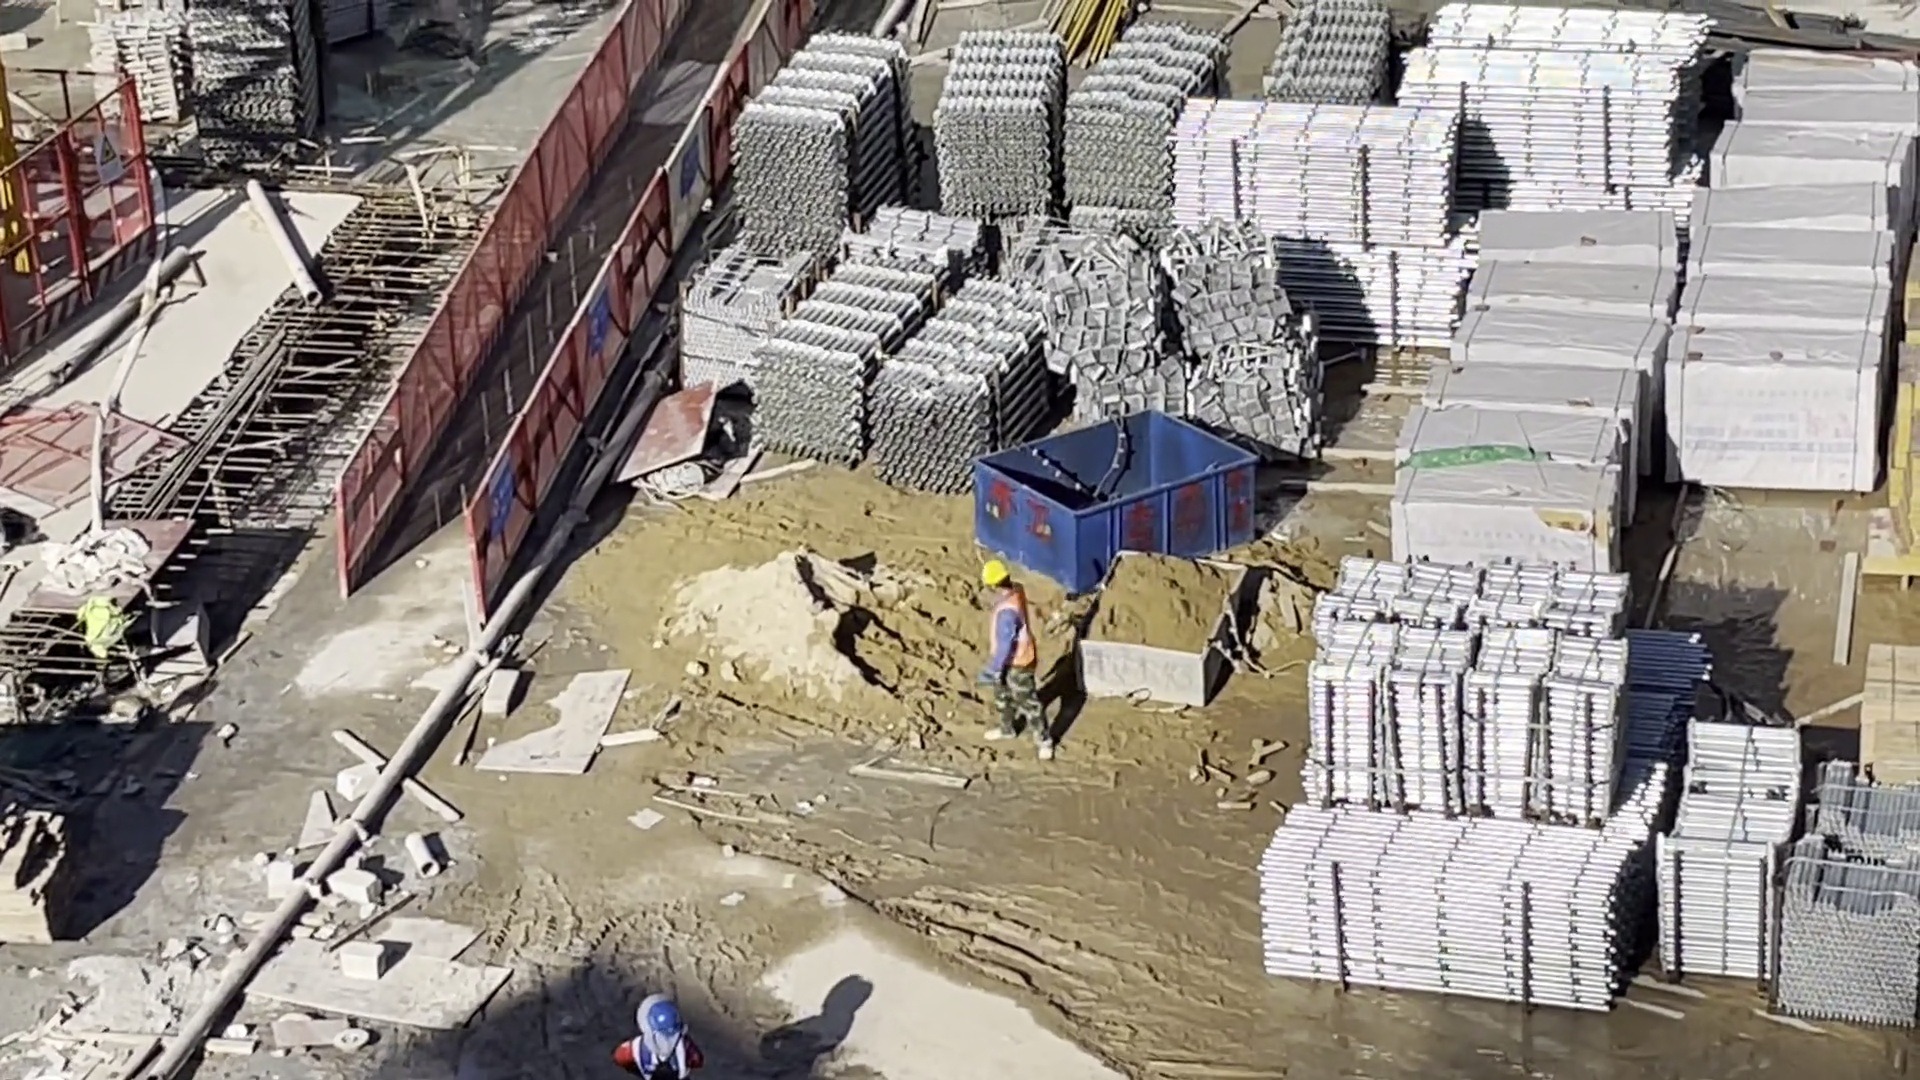board: (1889, 260, 1920, 573), (1862, 650, 1920, 765)
fence: (344, 7, 779, 595)
helmet: (648, 1004, 680, 1038), (981, 560, 1011, 587)
hopper: (977, 406, 1255, 595), (1078, 553, 1252, 711)
person: (975, 561, 1055, 762), (613, 1003, 694, 1080)
scaffold: (1308, 561, 1633, 830), (1263, 804, 1643, 1015), (1171, 99, 1462, 346), (759, 261, 1040, 484), (1406, 1, 1702, 179), (1766, 760, 1920, 1015), (738, 35, 909, 247), (1661, 729, 1797, 969), (1065, 26, 1225, 207), (939, 31, 1063, 214), (190, 1, 321, 147), (1270, 6, 1390, 104), (92, 15, 192, 120)
slogan: (486, 457, 515, 530), (586, 283, 608, 353)
vest: (990, 592, 1033, 670), (633, 1035, 685, 1079)
